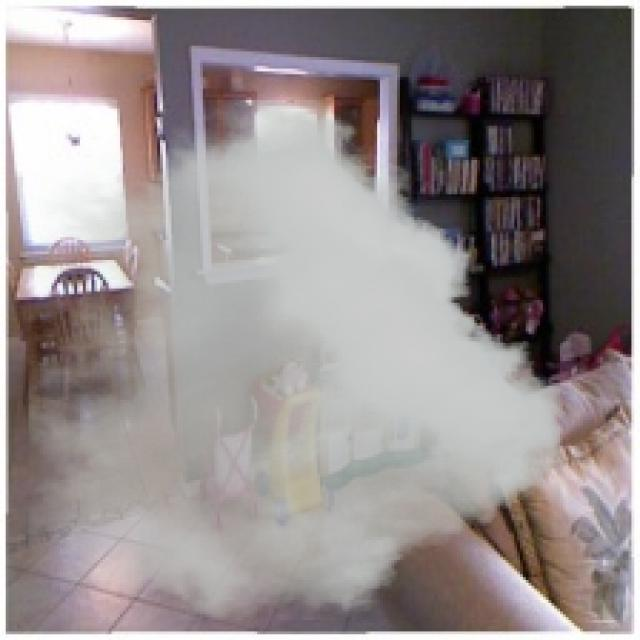smoke: (28, 100, 563, 620)
